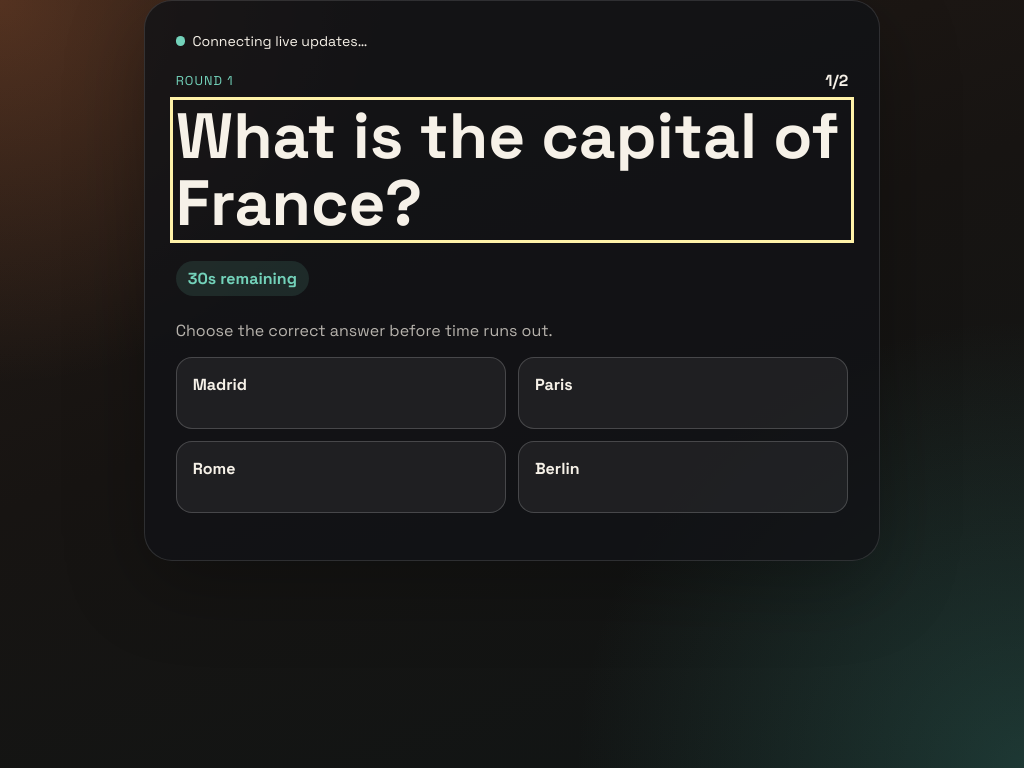
Test: RoomPage › does not carry a reused option ID into the next round
Click the button "Paris" at {"x": 554, "y": 385}, box x1=518 y1=358 x2=848 y2=430
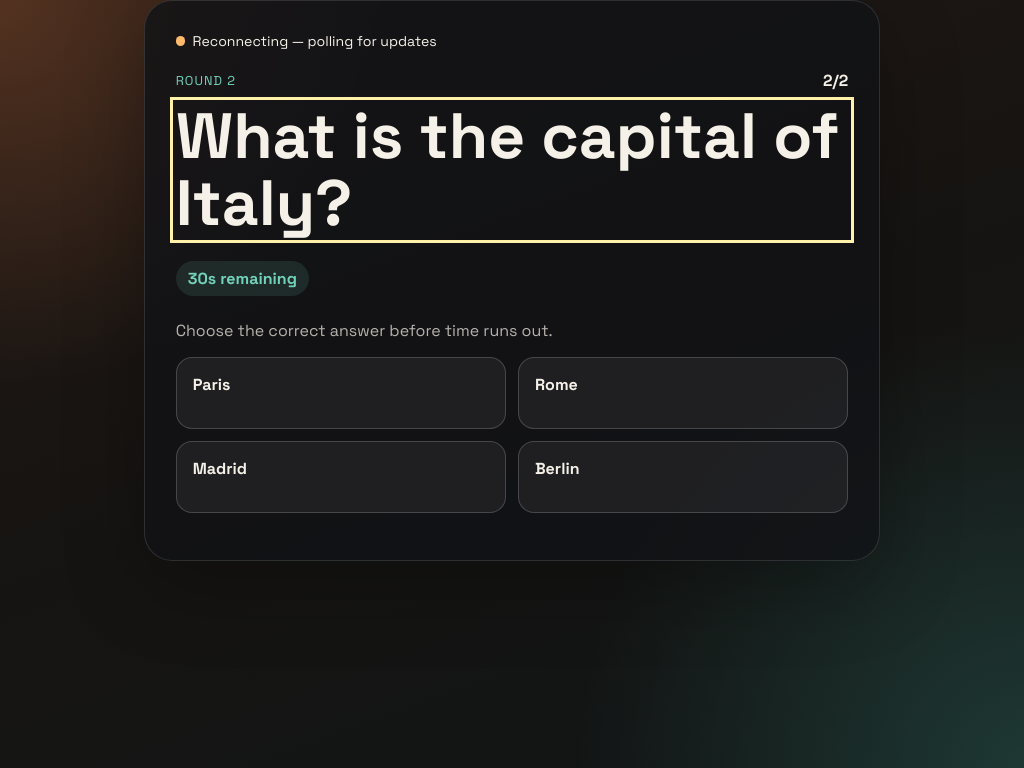
Expected: the heading "What is the capital of Italy?" is shown, x1=176 y1=103 x2=848 y2=237
